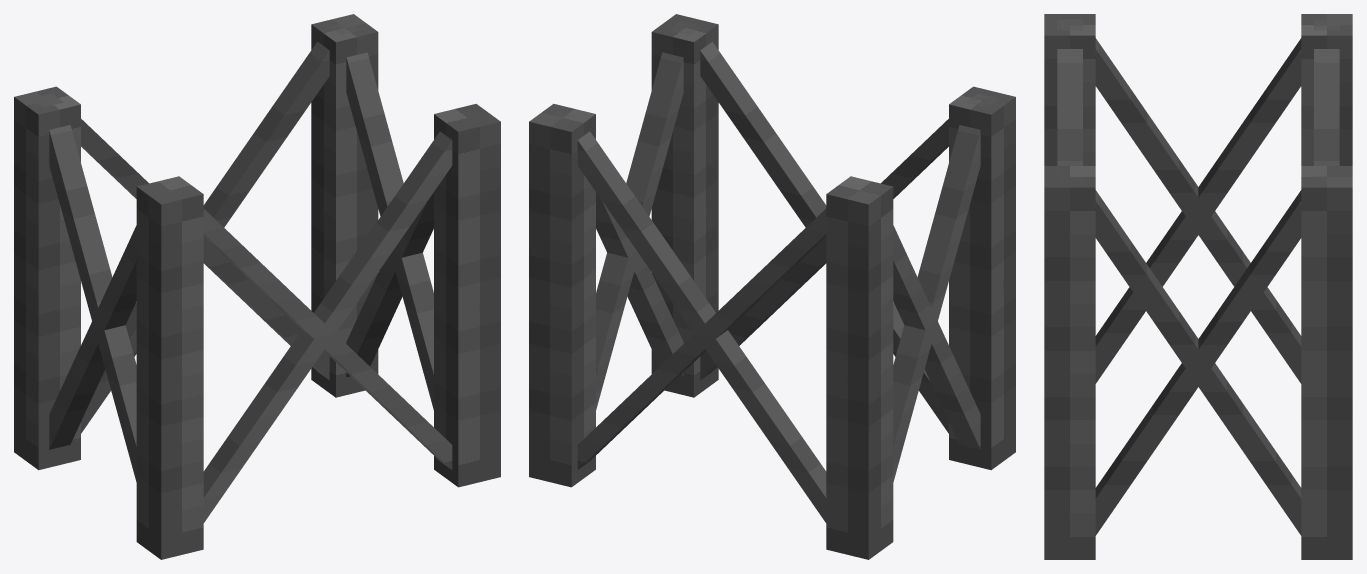
Rendered from scaffold.obj.
3 renders of one model, left to right at view 1: azimuth 30°, elevation 25°; view 2: azimuth 150°, elevation 25°; view 3: azimuth 270°, elevation 25°, orthographic. The views are drawn at different scales.
Parts seen in each view (by area): view 1: cube, cuboid; view 2: cube, cuboid; view 3: cube, cuboid.
Part boxes in pixels (left/top/right/bottom): cube: left=14, top=14, right=500, bottom=559; cuboid: left=32, top=21, right=482, bottom=522; cube: left=529, top=14, right=1015, bottom=559; cuboid: left=549, top=21, right=997, bottom=522; cube: left=1044, top=14, right=1352, bottom=559; cuboid: left=1057, top=19, right=1339, bottom=535.
Bounding box in the file's own units: 1 × 1 × 0.75.
